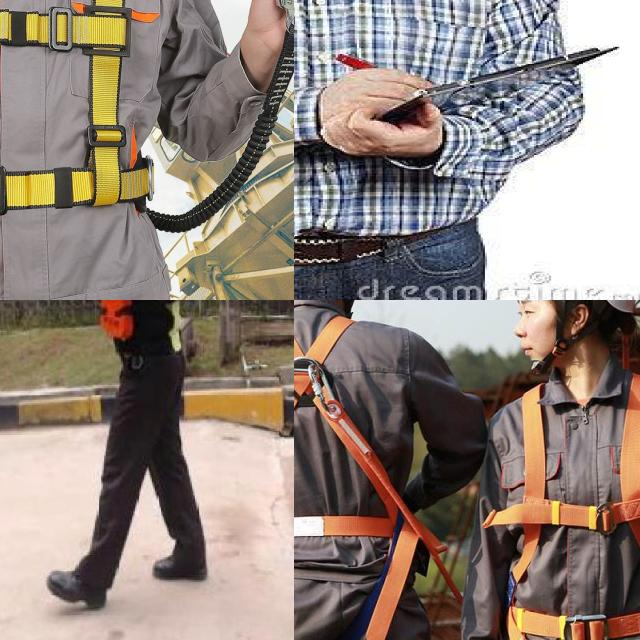Harness: (294, 313, 433, 640), (496, 375, 640, 640), (0, 0, 155, 222)
boots: (44, 568, 110, 608), (150, 546, 210, 586)
person: (30, 300, 226, 613)
vest: (98, 300, 206, 361)
